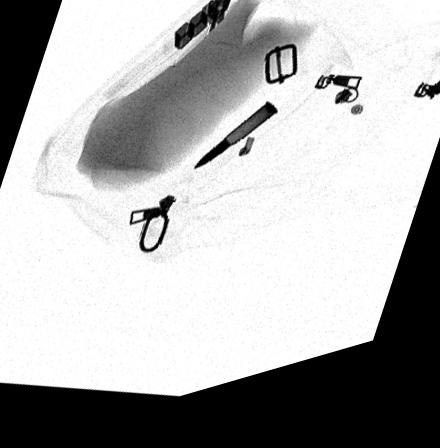Bullet: (192, 114, 278, 179)
